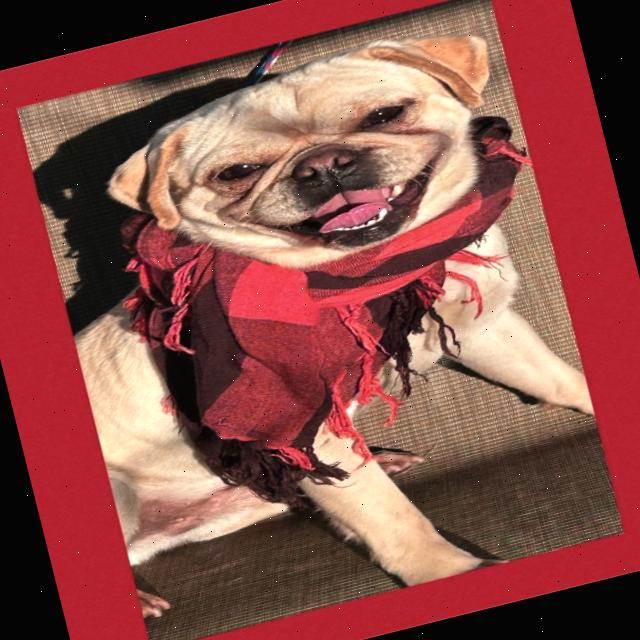pug_dog: (79, 13, 532, 316)
